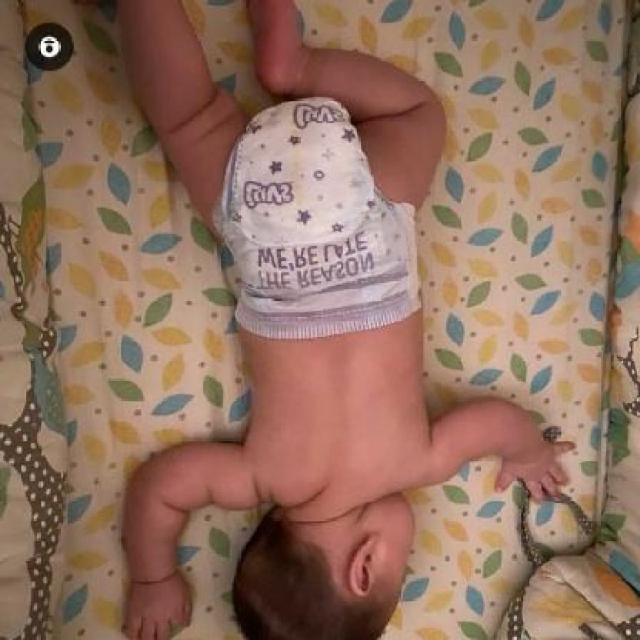baby: (109, 3, 574, 640)
